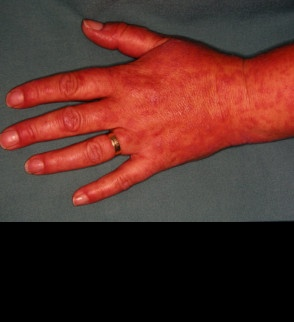SJS-TEN: (88, 0, 294, 197)
